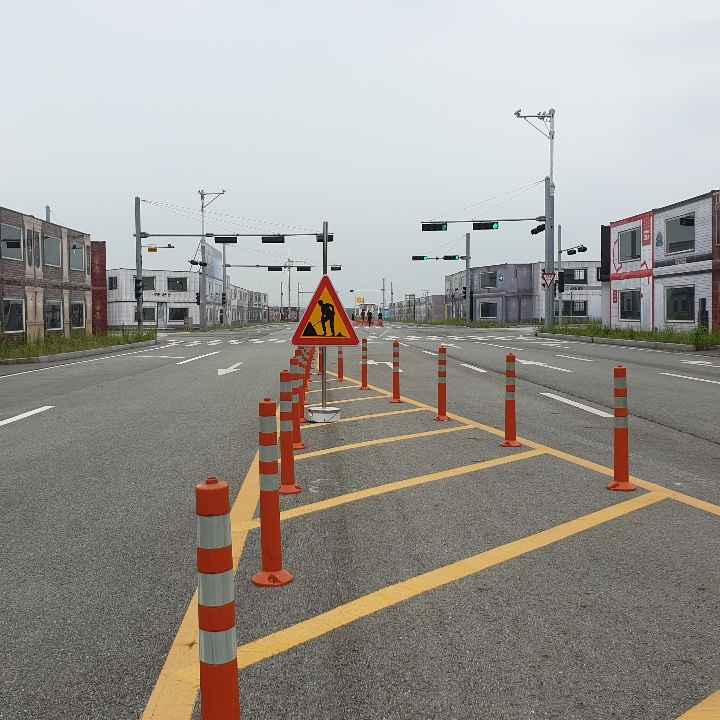const: (298, 291, 349, 339)
